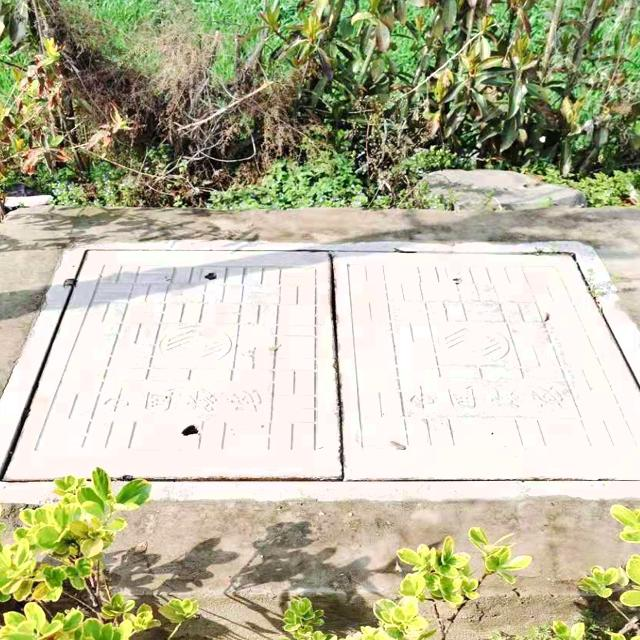good: (0, 241, 640, 500)
